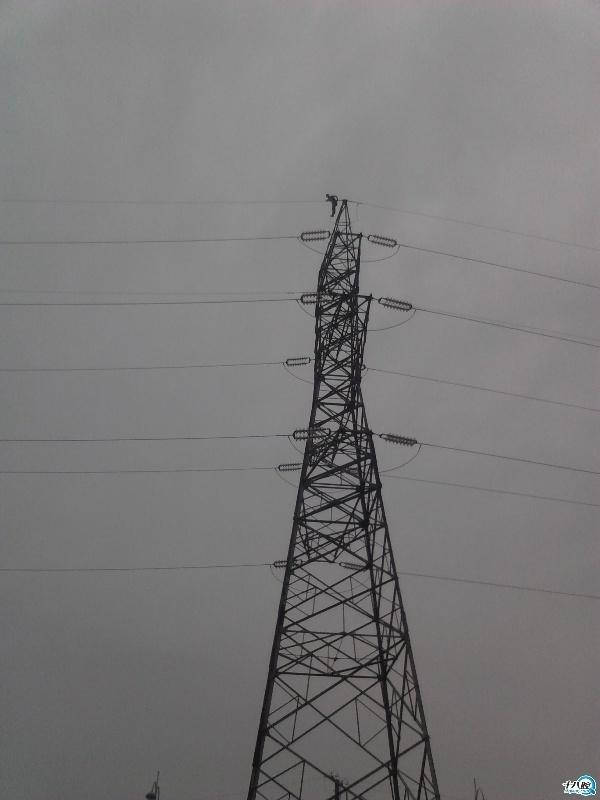power_tower: (251, 197, 441, 794)
